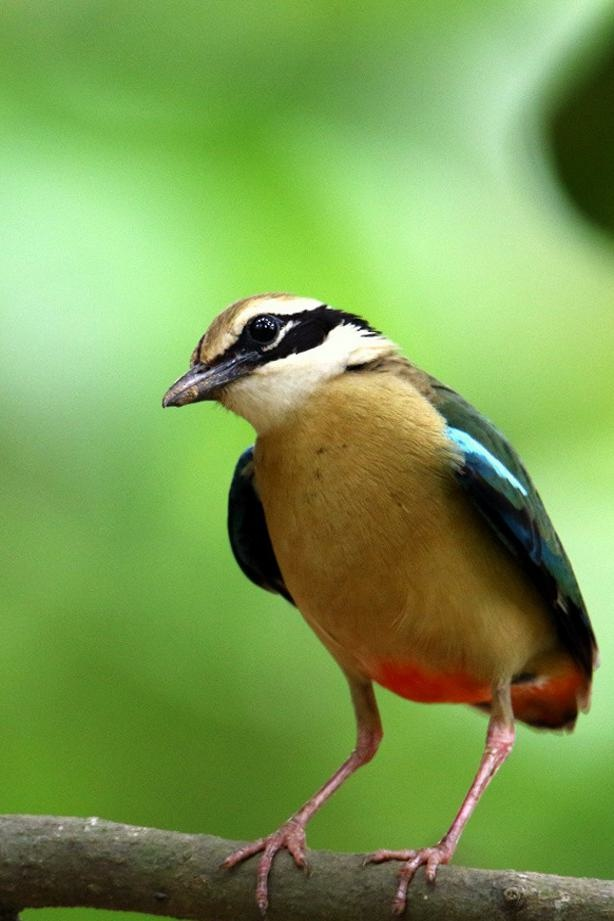pitta: (154, 274, 578, 901)
